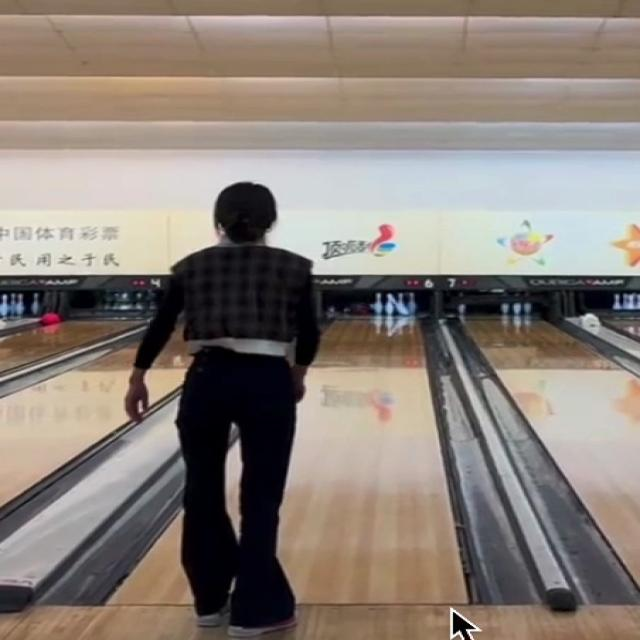alley: (278, 318, 464, 604), (109, 516, 190, 604)
balls: (353, 303, 368, 315)
bottle: (371, 292, 418, 318)
